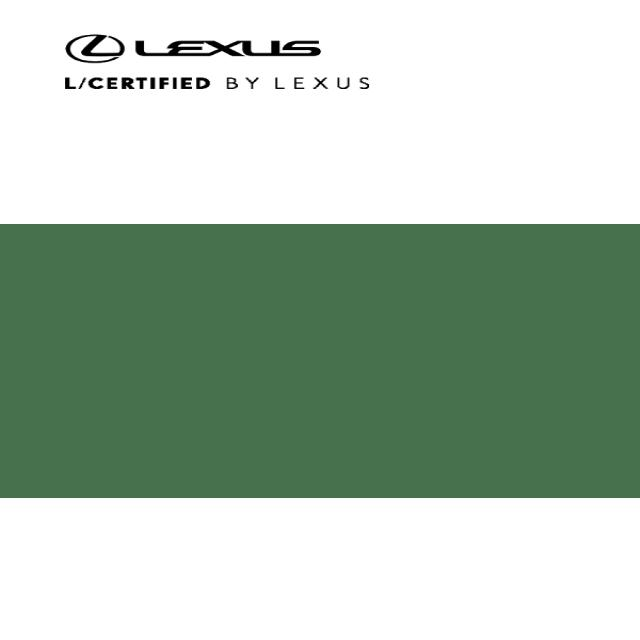Icon: (64, 32, 125, 62)
Photograph: (1, 1, 638, 637)
Testimonial Quotes: (60, 32, 372, 92)
Text Elements: (62, 74, 371, 90), (62, 75, 210, 90), (224, 75, 370, 90)
